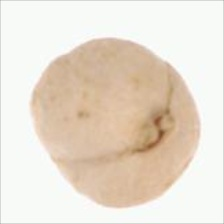L3: (133, 107, 177, 154)
L4: (31, 36, 202, 209)
